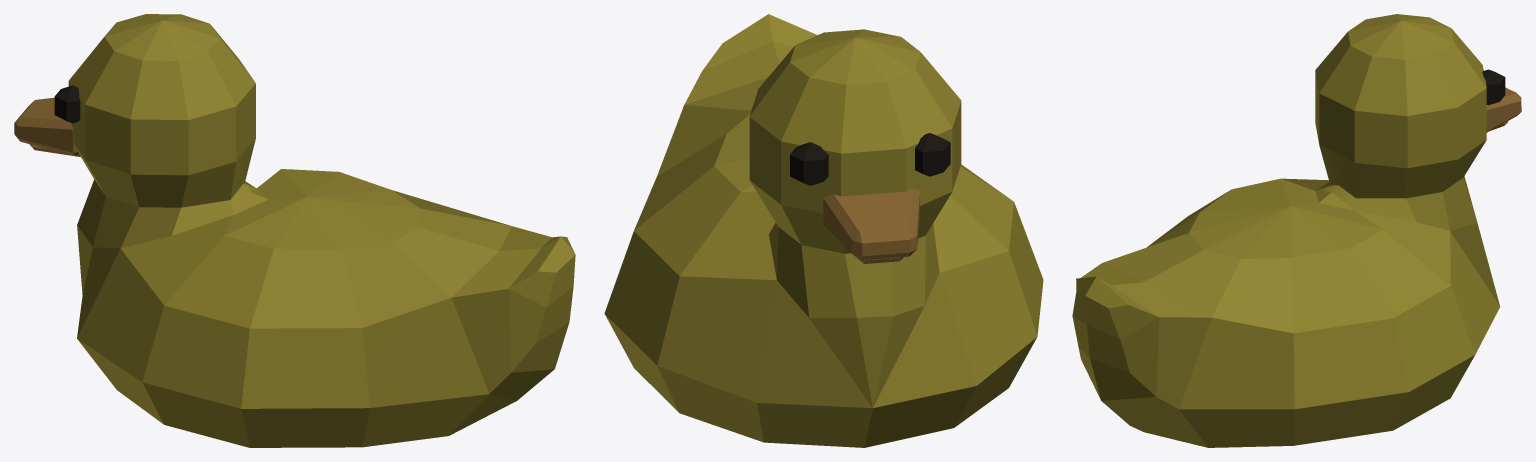
File: rubber duckie.fbx
3 renders of one model, left to right at view 1: azimuth 30°, elevation 25°; view 2: azimuth 150°, elevation 25°; view 3: azimuth 270°, elevation 25°, orthographic. The views are drawn at different scales.
Parts seen in each view (by area): view 1: DuckBody; view 2: DuckBody; view 3: DuckBody.
Boxes of the visible parts, left/top/right/bottom form: DuckBody: left=14, top=14, right=575, bottom=447; DuckBody: left=604, top=14, right=1043, bottom=447; DuckBody: left=1072, top=14, right=1521, bottom=447.
Bounding box in the file's own units: 52.25 × 50.13 × 59.74.
